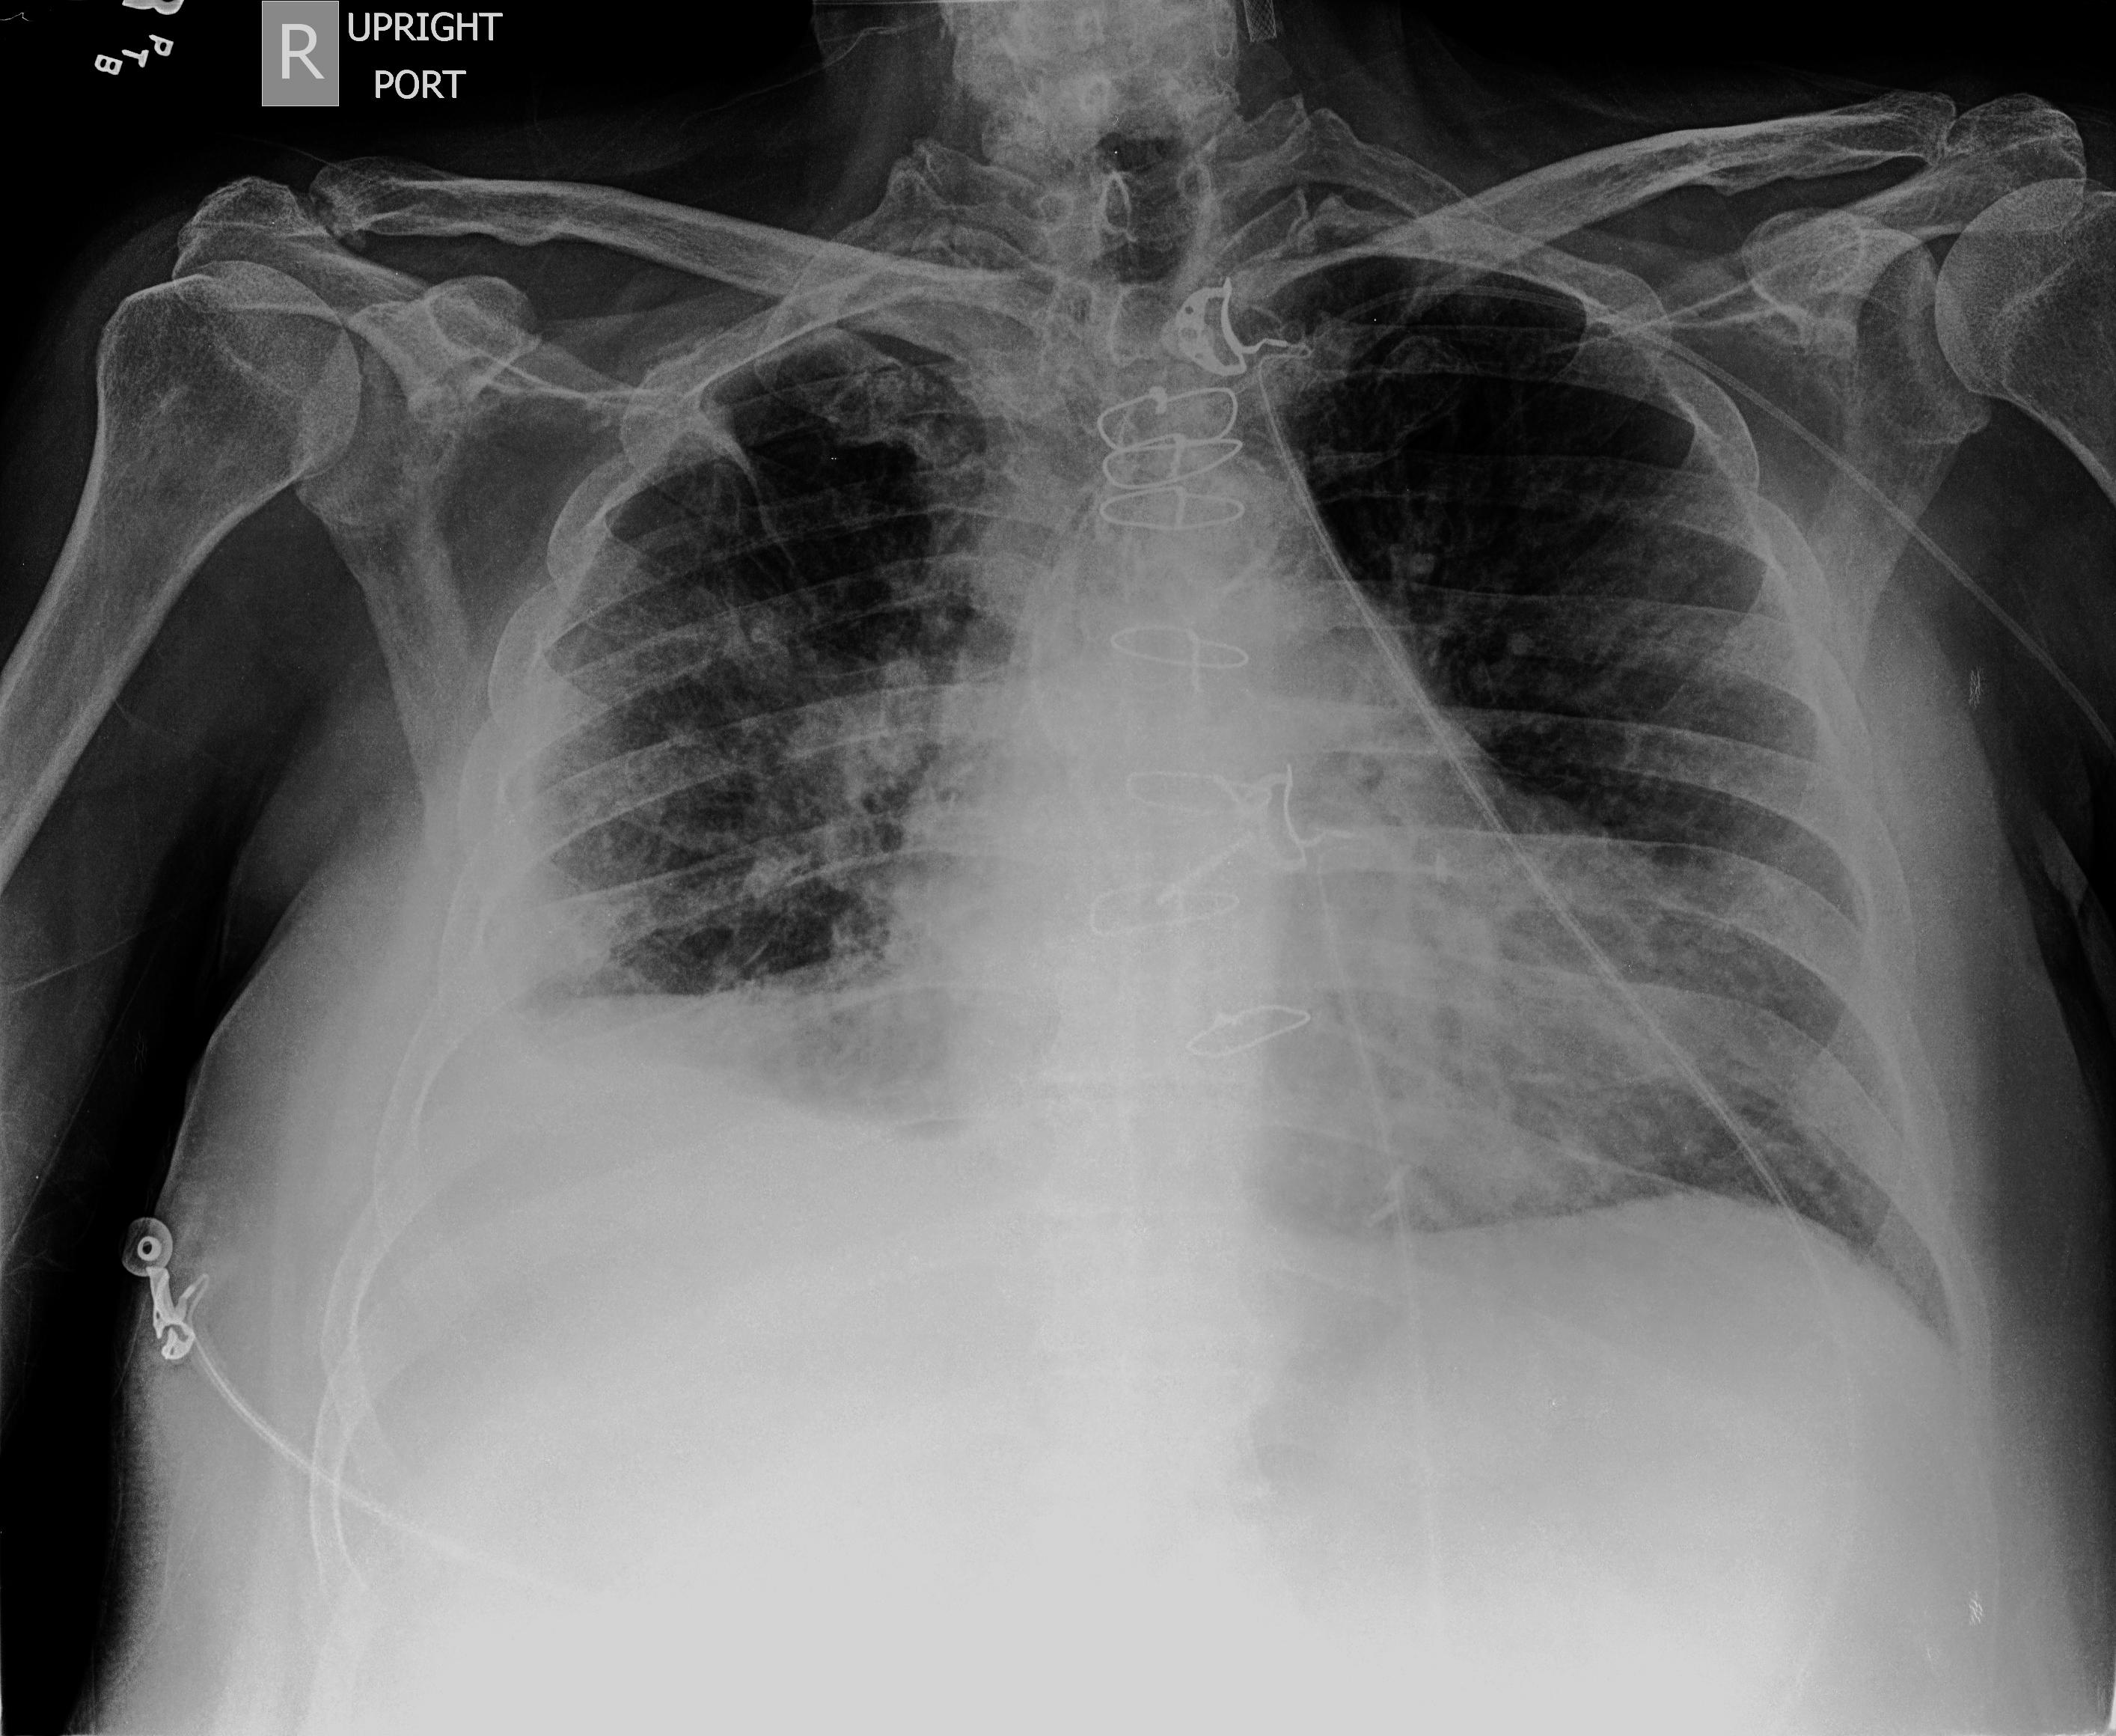Pleural Effusion: (343, 975, 938, 1362)
